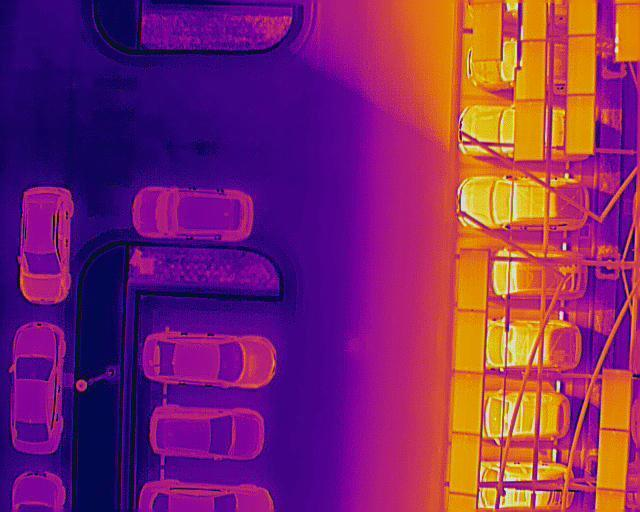No-Anomaly: (458, 250, 489, 313), (514, 100, 545, 160), (455, 310, 484, 373), (454, 372, 483, 435), (598, 430, 627, 491), (473, 3, 503, 61), (566, 95, 595, 154), (451, 434, 479, 495), (602, 370, 630, 430), (568, 35, 595, 96), (523, 41, 547, 98)
Unclassified: (614, 3, 640, 62)
